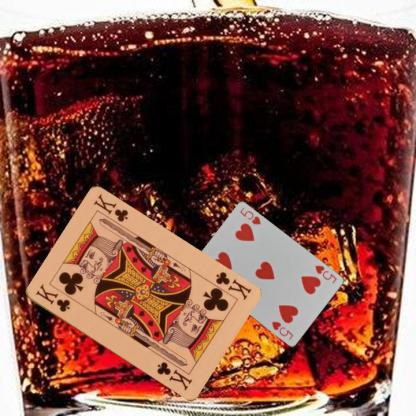5h: (312, 263, 337, 285)
Kc: (212, 269, 253, 302), (33, 281, 71, 314)
